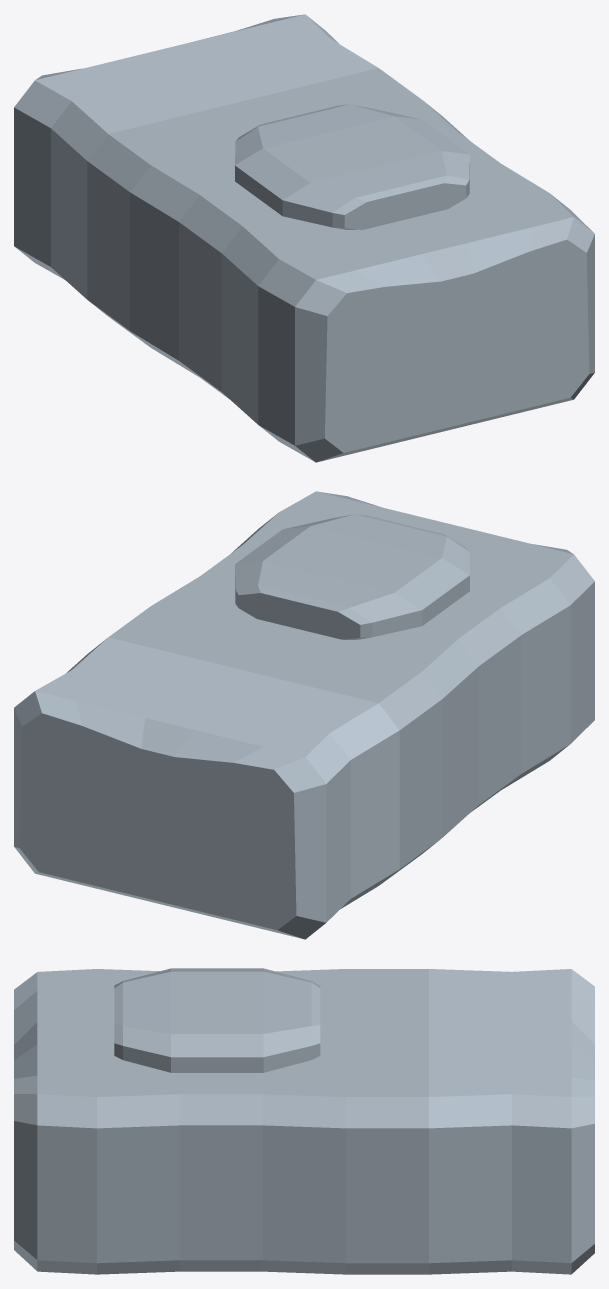
Rendered from pillar_medium_b.glb.
3 renders of one model, top to bottom at view 1: azimuth 30°, elevation 25°; view 2: azimuth 150°, elevation 25°; view 3: azimuth 270°, elevation 25°, orthographic. The views are drawn at different scales.
Visible parts, largest first — view 1: pillar_medium_b; view 2: pillar_medium_b; view 3: pillar_medium_b.
Boxes of the visible parts, x1,y1,x2,y2 form: pillar_medium_b: [14, 14, 594, 462]; pillar_medium_b: [14, 491, 594, 939]; pillar_medium_b: [14, 968, 594, 1274].
Size of the model in its own units: 3.8 by 2.48 by 6.3.
